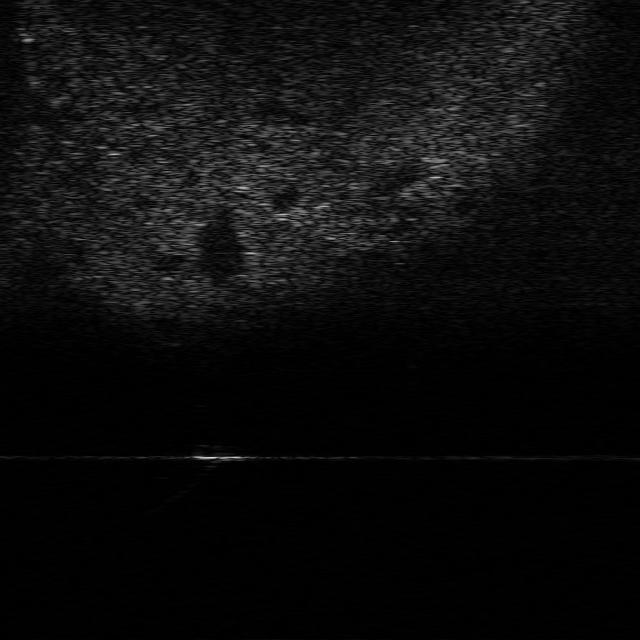cube: (191, 440, 249, 462)
